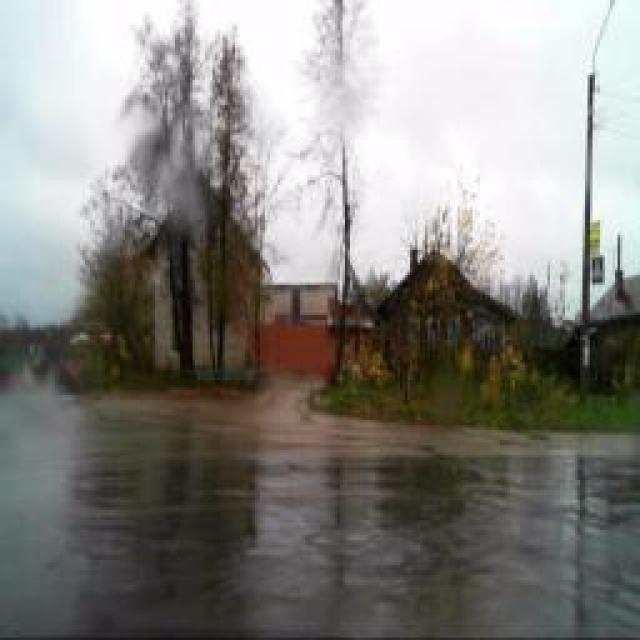sign: (591, 255, 604, 285)
